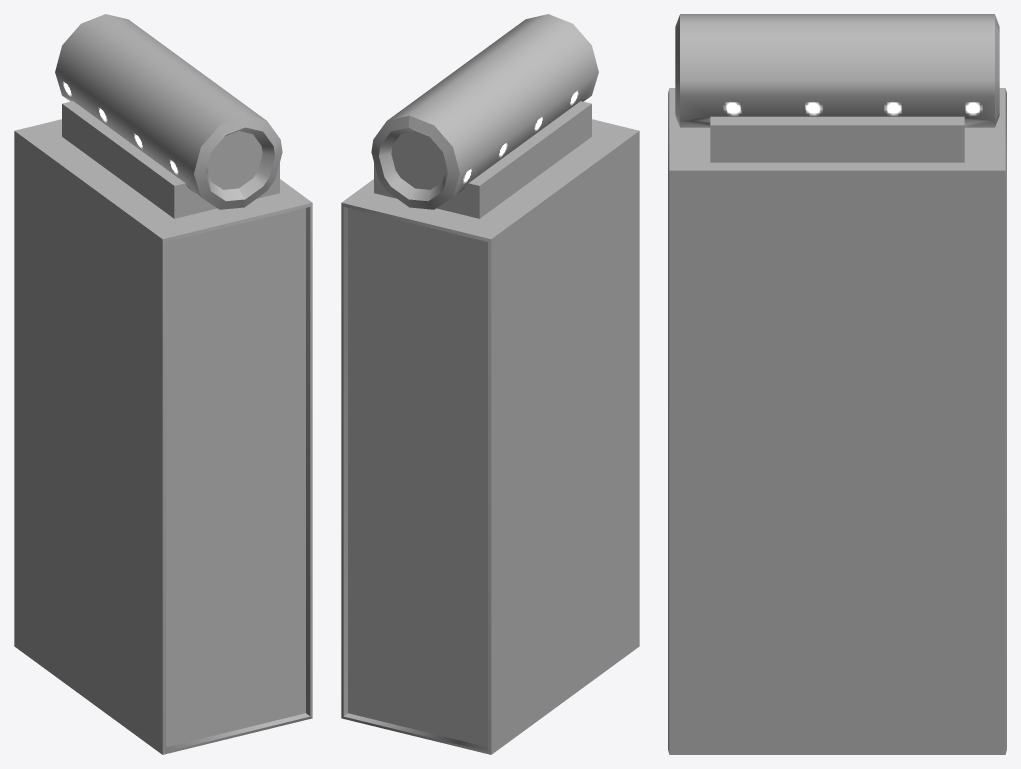
File: KF_SM_OPcenter2.fbx
3 views of the same model, side by side, from view 1: azimuth 30°, elevation 25°; view 2: azimuth 150°, elevation 25°; view 3: azimuth 270°, elevation 25° (orthographic). The views are drawn at different scales.
Parts seen in each view (by area): view 1: KF_SM_OPcenter2; view 2: KF_SM_OPcenter2; view 3: KF_SM_OPcenter2.
Boxes of the visible parts, x1=… form: KF_SM_OPcenter2: x1=14, y1=14, x2=312, y2=754; KF_SM_OPcenter2: x1=341, y1=14, x2=639, y2=754; KF_SM_OPcenter2: x1=668, y1=14, x2=1006, y2=754.
Bounding box in the file's own units: 204 × 800 × 353.
